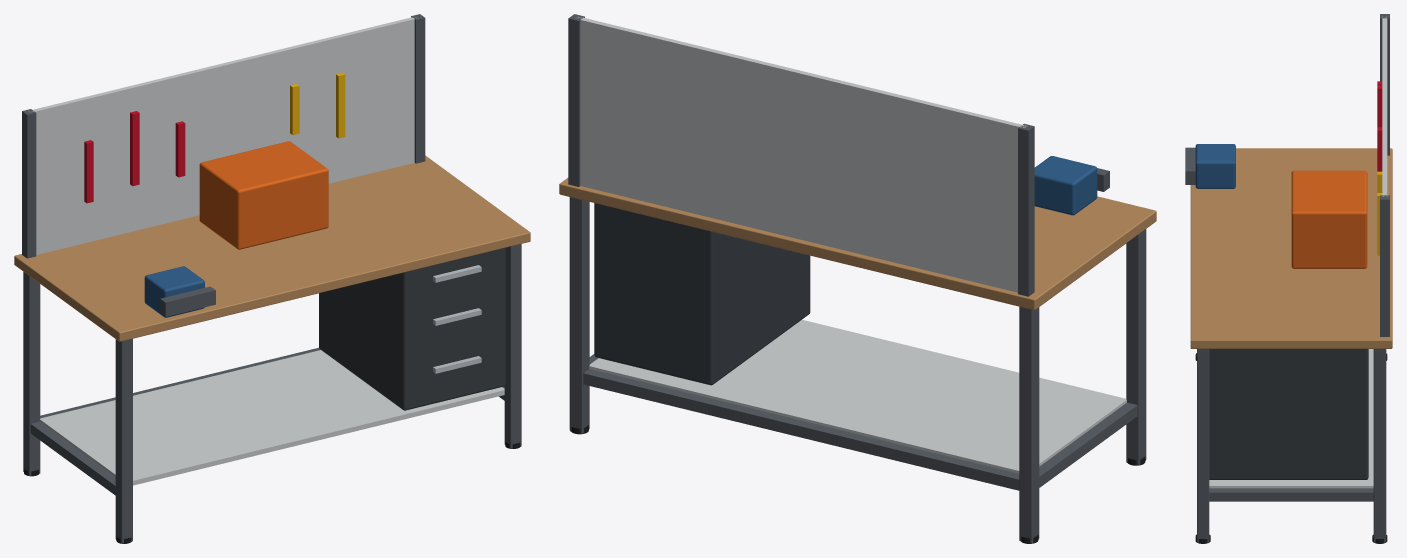
Rendered from assembly-workbench.glb.
The picture shows the model from 3 angles, left to right: view 1: azimuth 30°, elevation 25°; view 2: azimuth 150°, elevation 25°; view 3: azimuth 270°, elevation 25°; orthographic projection. The views are drawn at different scales.
Visible parts, largest first — view 1: paint_light_grey, wood_top, paint_anthracite, steel_dark, rack_orange, estop_red, motor_blue, aluminium, safety_yellow; view 2: paint_light_grey, steel_dark, paint_anthracite, wood_top, motor_blue; view 3: wood_top, paint_anthracite, steel_dark, rack_orange, paint_light_grey, motor_blue, estop_red, safety_yellow.
Part boxes in pixels (left/top/right/bottom): paint_light_grey: left=28, top=17, right=504, bottom=485; wood_top: left=14, top=155, right=530, bottom=341; paint_anthracite: left=319, top=248, right=505, bottom=410; steel_dark: left=22, top=14, right=521, bottom=543; rack_orange: left=199, top=141, right=328, bottom=249; estop_red: left=84, top=111, right=185, bottom=203; motor_blue: left=144, top=266, right=204, bottom=317; aluminium: left=433, top=265, right=481, bottom=373; safety_yellow: left=290, top=72, right=345, bottom=138; paint_light_grey: left=576, top=16, right=1126, bottom=473; steel_dark: left=568, top=14, right=1146, bottom=543; paint_anthracite: left=594, top=203, right=810, bottom=385; wood_top: left=559, top=178, right=1156, bottom=310; motor_blue: left=1034, top=156, right=1097, bottom=215; wood_top: left=1190, top=148, right=1392, bottom=348; paint_anthracite: left=1209, top=349, right=1368, bottom=479; steel_dark: left=1185, top=14, right=1389, bottom=542; rack_orange: left=1291, top=170, right=1367, bottom=268; paint_light_grey: left=1209, top=16, right=1387, bottom=488; motor_blue: left=1195, top=144, right=1235, bottom=188; estop_red: left=1377, top=81, right=1382, bottom=171; safety_yellow: left=1377, top=171, right=1382, bottom=255.
Size of the model in its own units: 1.8 by 1.5 by 0.82.
